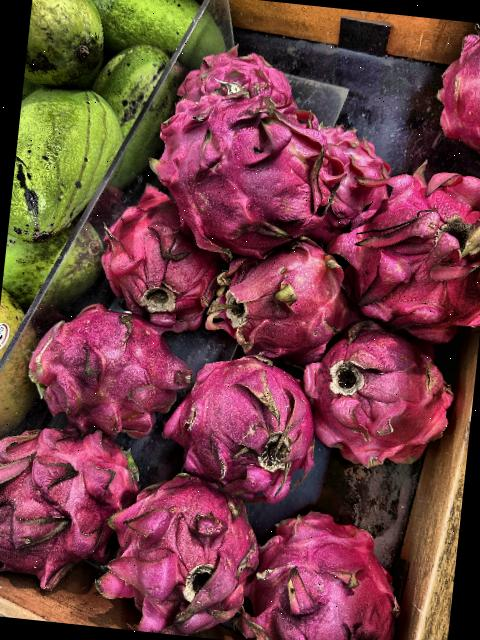buah-naga-matang: (146, 83, 340, 254), (100, 445, 262, 639), (328, 159, 480, 352), (162, 343, 331, 506), (0, 404, 144, 585), (301, 320, 454, 482), (21, 296, 192, 436), (242, 501, 414, 640), (206, 230, 360, 353), (101, 176, 222, 331), (312, 121, 390, 231), (429, 24, 480, 172)
